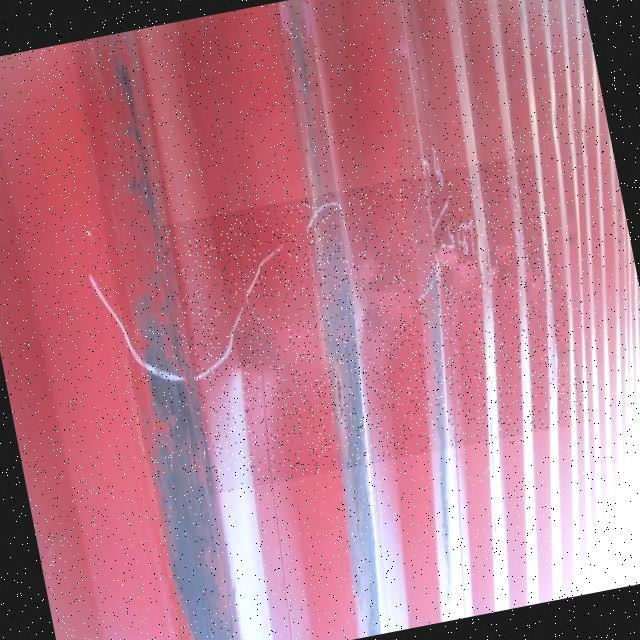Dent: (157, 153, 589, 496)
